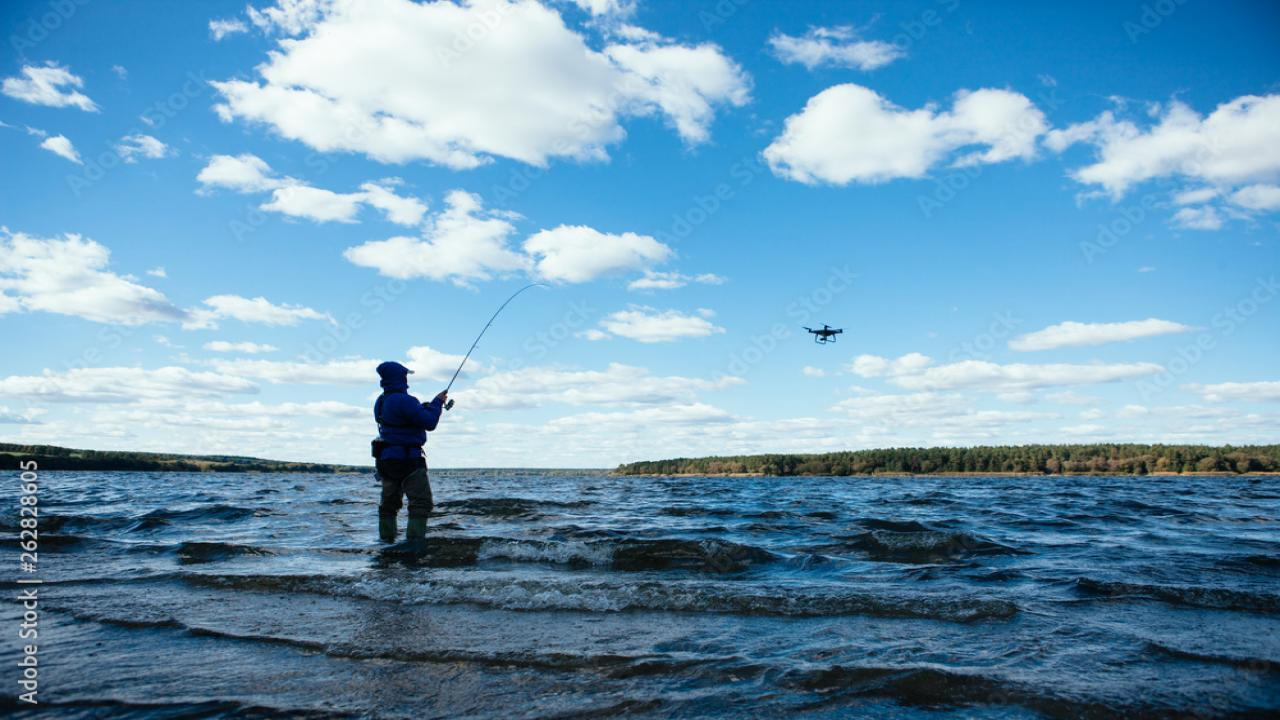Drone: (797, 316, 857, 353)
